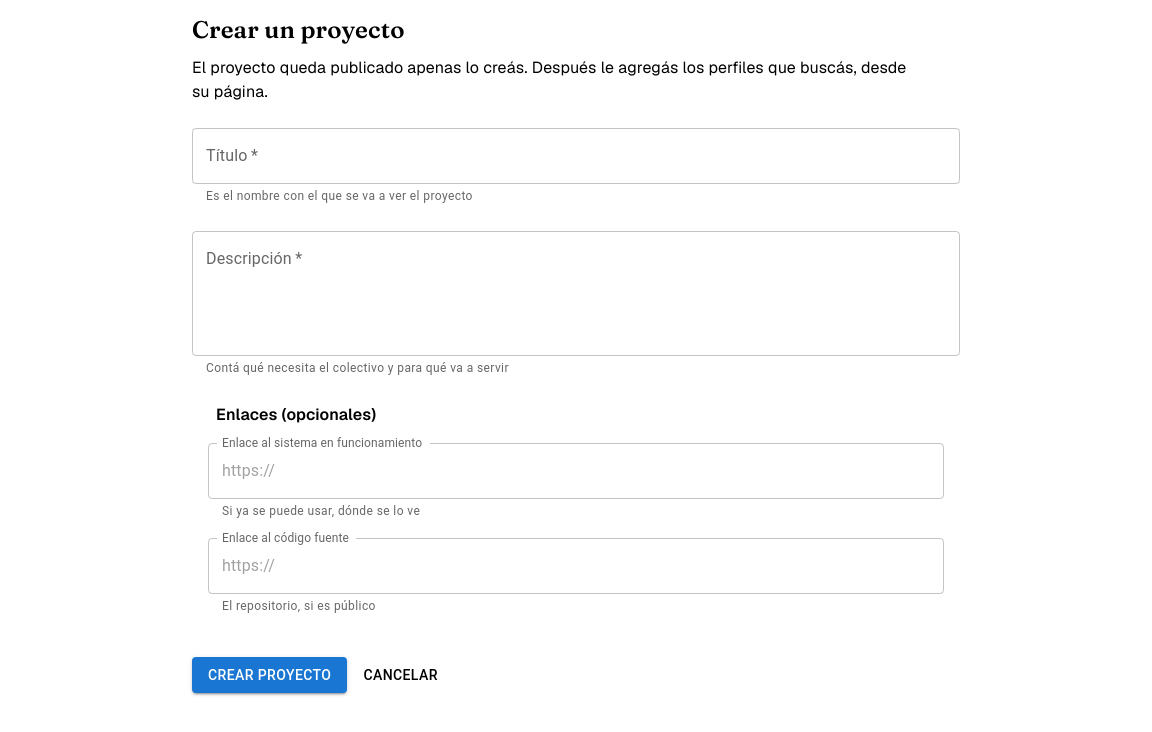
Test: NuevoProyecto › crea el proyecto del colectivo de la sesión y lleva a su página
Type "Mapa de humedales" into the field labelled "Título *" at point(576, 156), box x1=192 y1=128 x2=960 y2=184
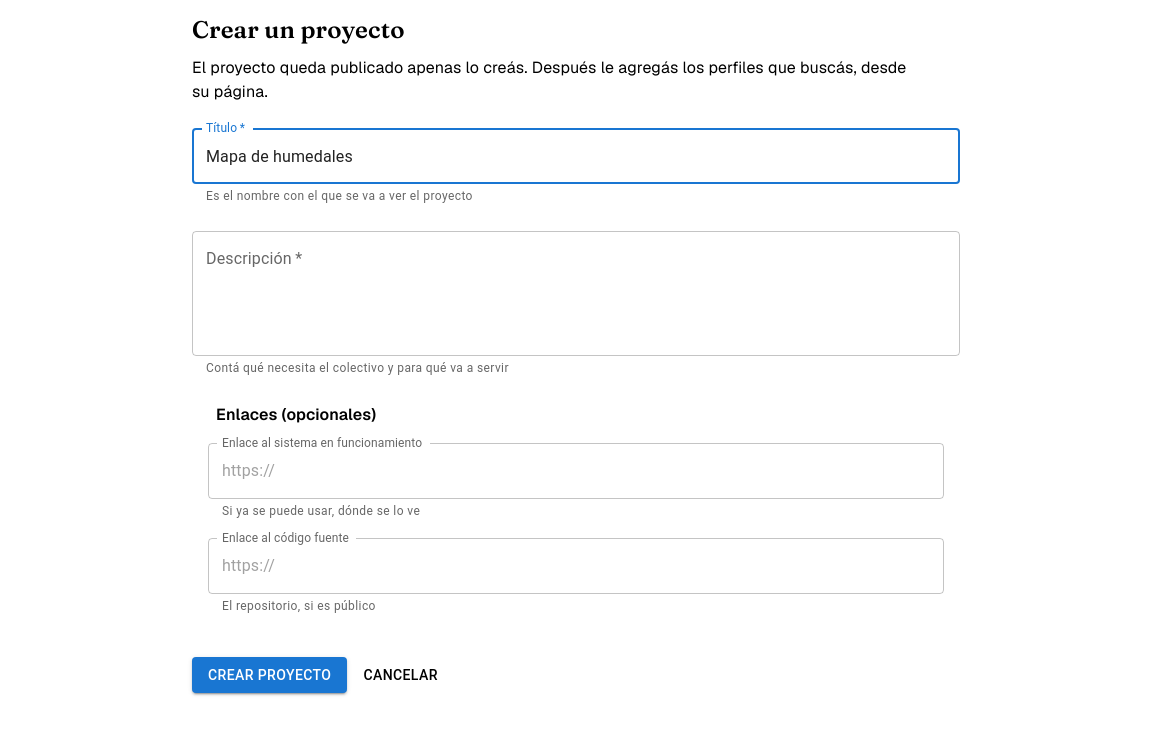
Type "Relevar los humedales del barrio" into the text box labelled "Descripción *" at point(576, 293), box x1=206 y1=247 x2=946 y2=339
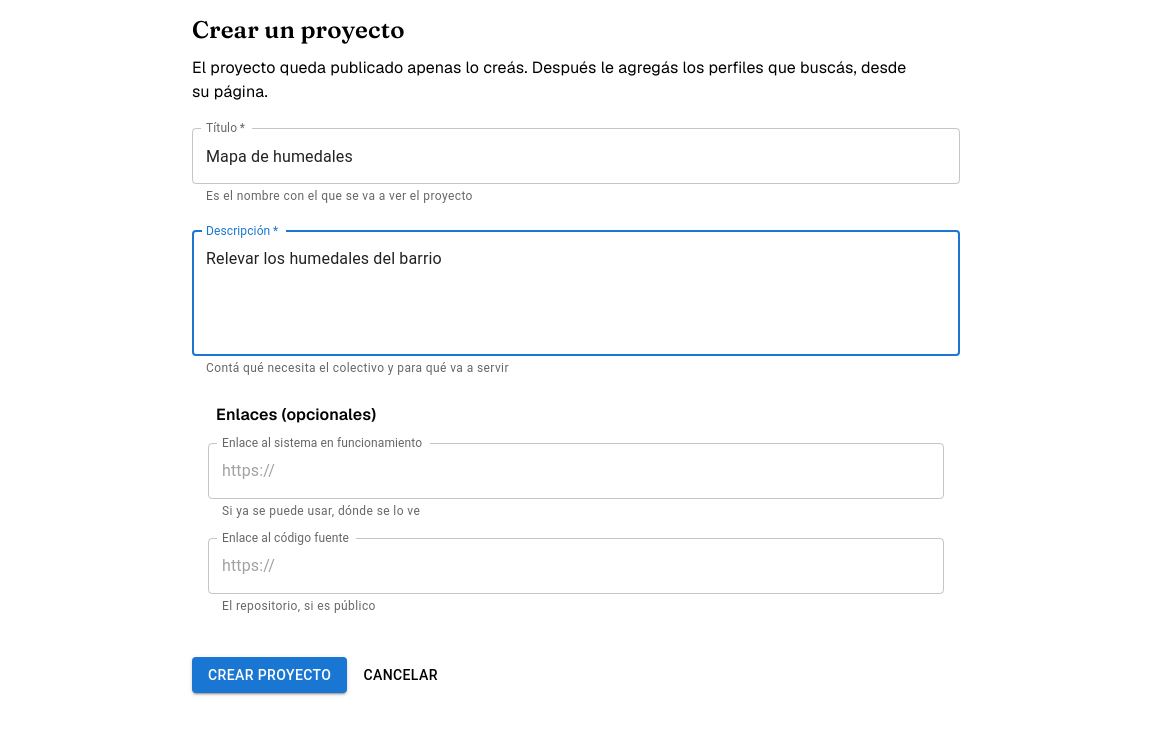
Type " https://git.example.org/humedales " into the field labelled "Enlace al código fuente" at point(576, 566), box x1=208 y1=538 x2=944 y2=594
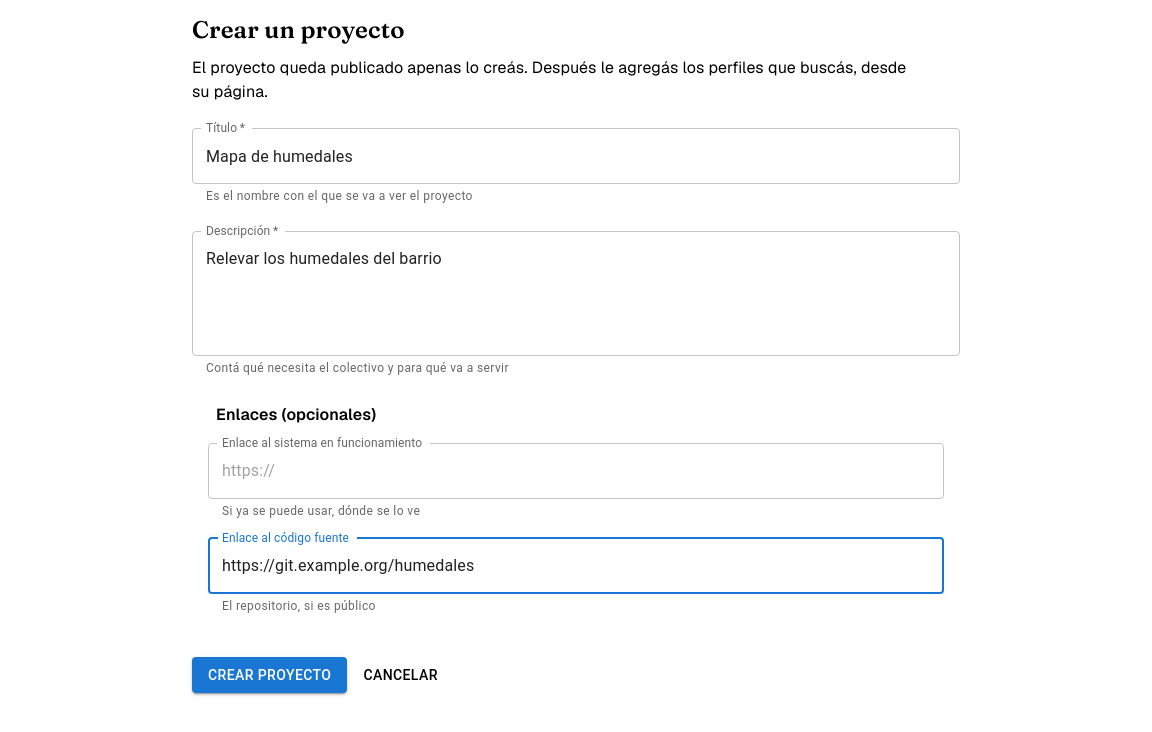
Click the button "Crear proyecto" at point(270, 675), box x1=192 y1=657 x2=347 y2=693
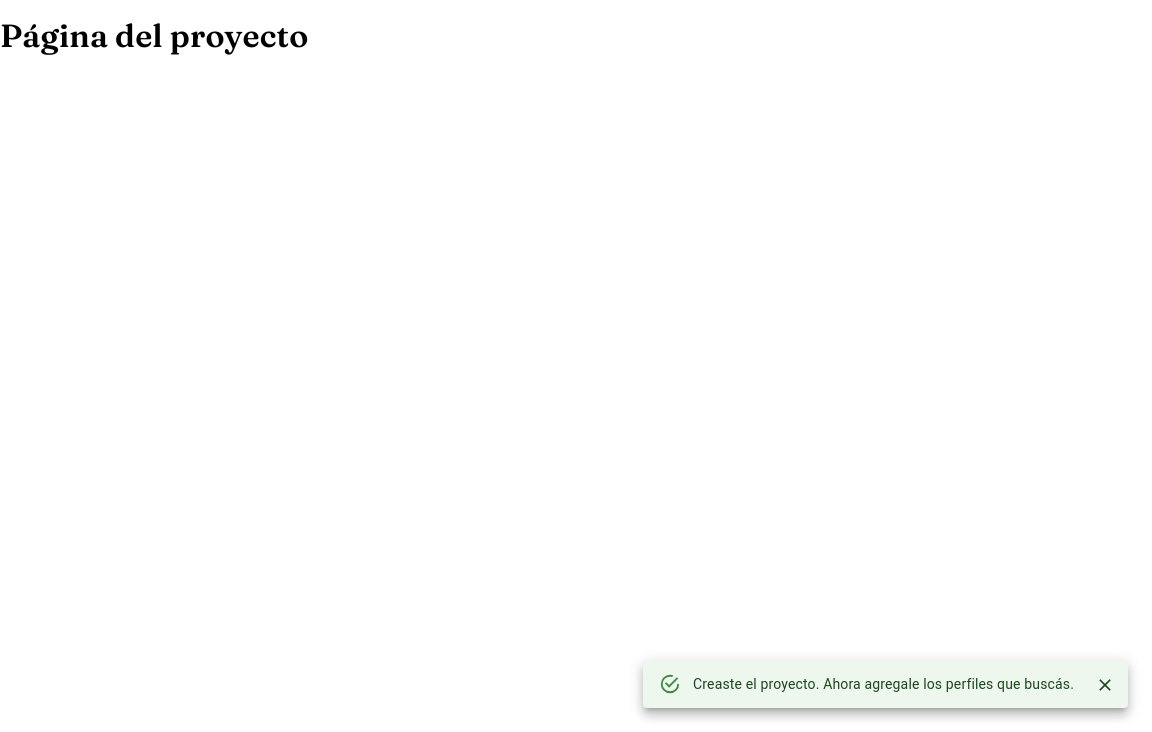
Now the heading "Página del proyecto" is shown, box x1=0 y1=16 x2=308 y2=55
Now the text "Creaste el proyecto. Ahora agregale los perfiles que buscás." is shown, box x1=693 y1=676 x2=1074 y2=692
